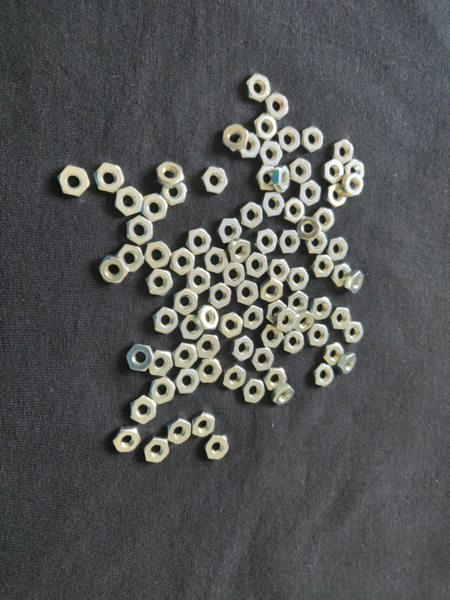nut: (57, 165, 91, 197), (121, 215, 154, 246), (93, 162, 125, 192), (220, 123, 252, 152), (114, 186, 143, 215), (97, 256, 129, 282), (144, 269, 173, 297), (125, 344, 154, 372), (197, 357, 224, 387), (256, 139, 283, 169), (143, 437, 171, 465), (184, 227, 213, 254), (259, 278, 288, 305), (200, 167, 230, 193), (149, 375, 175, 405), (128, 396, 156, 423), (171, 343, 198, 371), (116, 246, 145, 272), (141, 193, 167, 222), (152, 306, 178, 335), (276, 125, 302, 154), (303, 228, 329, 257), (154, 163, 184, 188), (112, 429, 142, 454), (195, 332, 222, 359), (203, 436, 231, 462), (243, 252, 271, 278), (228, 336, 256, 362), (254, 226, 279, 255), (301, 124, 325, 154), (171, 246, 195, 276), (147, 350, 173, 377), (321, 342, 348, 368), (167, 416, 192, 444), (218, 216, 243, 244), (219, 312, 244, 340), (277, 228, 302, 256), (286, 265, 311, 293), (208, 281, 232, 310), (196, 304, 220, 333), (228, 239, 254, 265), (295, 217, 321, 243), (265, 93, 290, 120), (145, 241, 170, 268), (258, 140, 283, 167), (254, 166, 281, 191), (235, 278, 260, 305), (161, 181, 189, 205), (192, 413, 216, 441), (175, 368, 199, 396), (171, 291, 199, 315), (268, 255, 291, 284), (205, 248, 230, 274), (186, 268, 211, 294), (247, 73, 271, 100), (254, 114, 278, 141), (242, 378, 266, 405), (180, 315, 204, 342), (237, 135, 261, 162), (313, 363, 337, 390), (243, 305, 266, 333), (327, 235, 350, 263), (331, 261, 354, 289), (222, 263, 247, 288), (289, 159, 314, 184), (300, 180, 324, 206), (313, 205, 337, 231), (265, 366, 289, 392), (311, 296, 334, 323), (284, 196, 306, 224), (331, 139, 356, 163), (278, 231, 302, 256), (241, 202, 264, 228), (262, 192, 285, 218), (322, 157, 345, 183), (287, 292, 313, 315), (283, 329, 306, 355), (271, 165, 290, 196), (313, 253, 334, 281), (275, 309, 298, 334), (265, 299, 288, 324), (343, 172, 365, 198), (252, 348, 274, 374), (345, 159, 367, 184), (326, 183, 348, 208), (344, 269, 366, 294), (331, 307, 352, 333), (308, 324, 329, 350), (339, 353, 361, 377), (272, 385, 296, 407), (344, 320, 365, 344)
